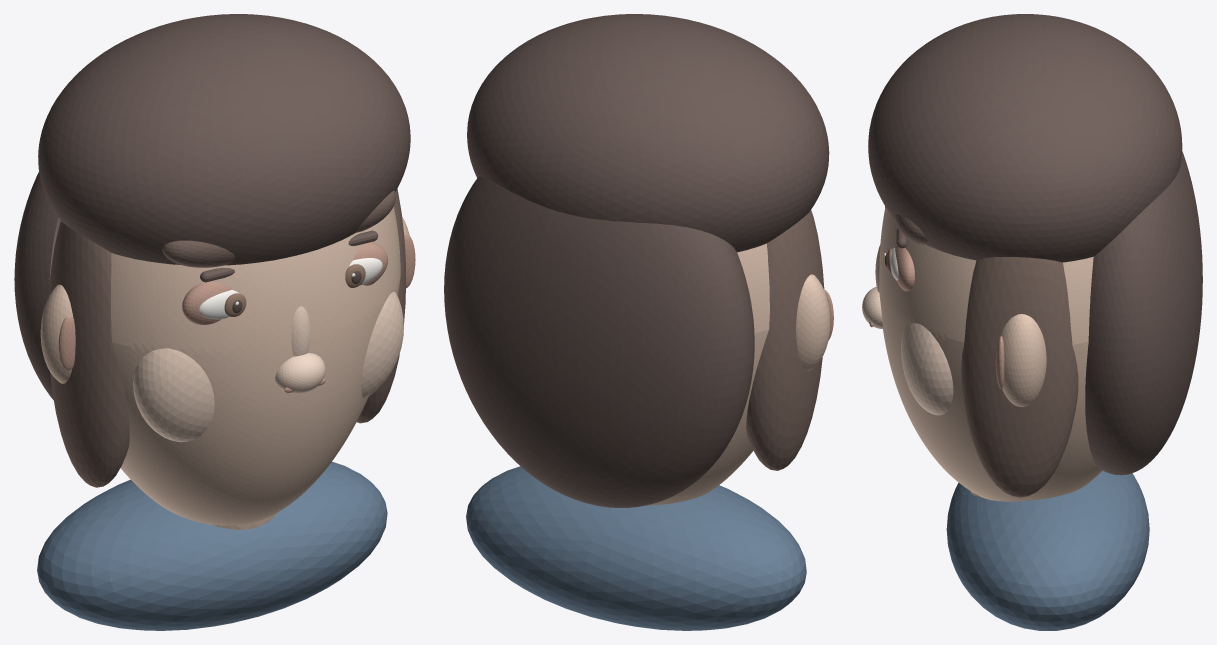
File: michelle_kwan_3d_face.glb
3 views of the same model, side by side, from view 1: azimuth 30°, elevation 25°; view 2: azimuth 150°, elevation 25°; view 3: azimuth 270°, elevation 25° (orthographic). The views are drawn at different scales.
Parts seen in each view (by area): view 1: 26_Hair cap, 00_Face and head, 34_Shoulders, 28_Side hair, 01_Cheek, 27_Back hair, 10_Cheek, 02_Ear, 20_Nose tip, 29_Side hair, 30_Swept fringe, 04_Eye socket (+5 smaller); view 2: 27_Back hair, 26_Hair cap, 34_Shoulders, 28_Side hair, 00_Face and head, 02_Ear; view 3: 26_Hair cap, 27_Back hair, 34_Shoulders, 29_Side hair, 00_Face and head, 10_Cheek, 11_Ear, 13_Eye socket, 20_Nose tip, 32_Swept fringe.
Part boxes in pixels (x1,y1,x2,y2): 26_Hair cap: [38, 14, 410, 265]; 00_Face and head: [49, 207, 400, 525]; 34_Shoulders: [37, 461, 387, 630]; 28_Side hair: [48, 221, 129, 487]; 01_Cheek: [133, 348, 214, 442]; 27_Back hair: [14, 172, 58, 400]; 10_Cheek: [361, 291, 403, 398]; 02_Ear: [40, 284, 73, 383]; 20_Nose tip: [275, 353, 325, 393]; 29_Side hair: [357, 189, 405, 423]; 30_Swept fringe: [162, 240, 234, 267]; 04_Eye socket: [182, 281, 231, 324]; 27_Back hair: [444, 176, 754, 507]; 26_Hair cap: [467, 14, 829, 252]; 34_Shoulders: [466, 466, 806, 630]; 28_Side hair: [746, 210, 824, 470]; 00_Face and head: [648, 243, 769, 505]; 02_Ear: [796, 274, 830, 370]; 26_Hair cap: [868, 14, 1182, 262]; 27_Back hair: [1085, 150, 1202, 475]; 34_Shoulders: [946, 470, 1149, 630]; 29_Side hair: [961, 257, 1078, 497]; 00_Face and head: [879, 207, 1102, 501]; 10_Cheek: [901, 323, 953, 415]; 11_Ear: [1000, 314, 1046, 406]; 13_Eye socket: [895, 246, 914, 291]; 20_Nose tip: [862, 286, 882, 328]; 32_Swept fringe: [894, 214, 927, 244].
Bounding box in the file's own units: 1.66 × 2.54 × 1.41.
